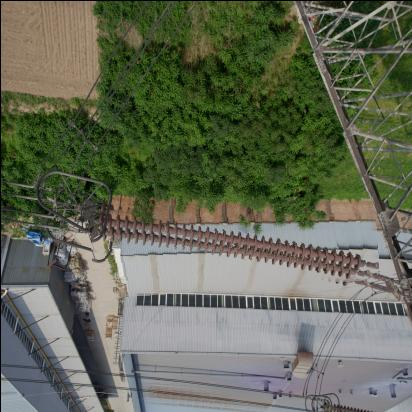insulator: (90, 196, 378, 294)
